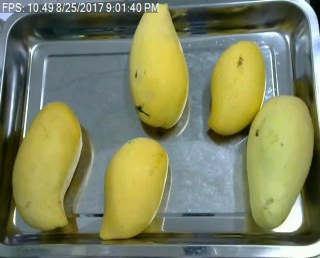Mango: (5, 97, 84, 233), (246, 93, 313, 232), (94, 137, 168, 240), (130, 0, 190, 127), (203, 38, 267, 138)
